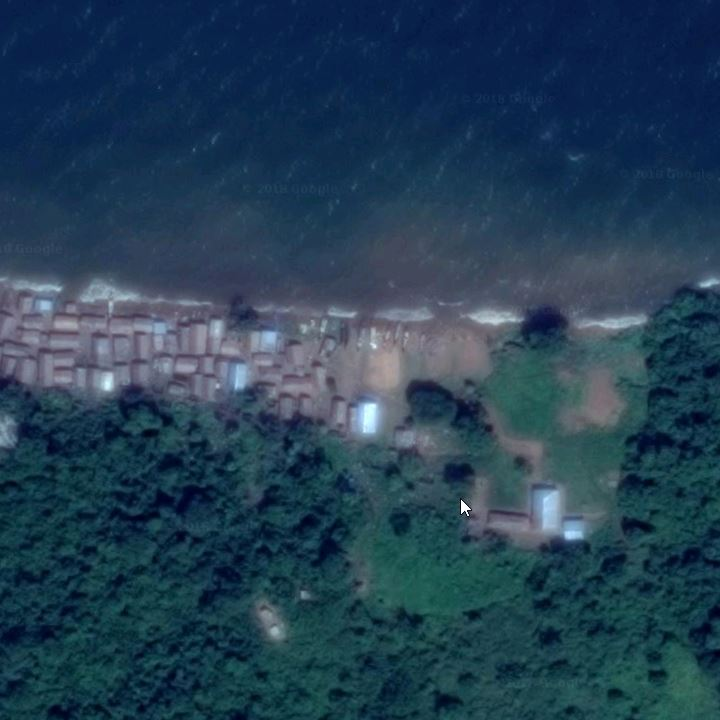boat: (356, 318, 367, 356), (317, 307, 329, 341), (270, 308, 284, 337), (106, 278, 115, 320), (368, 320, 380, 351), (342, 317, 352, 353), (401, 326, 411, 357), (337, 317, 347, 347), (383, 321, 393, 347), (419, 330, 428, 353)
